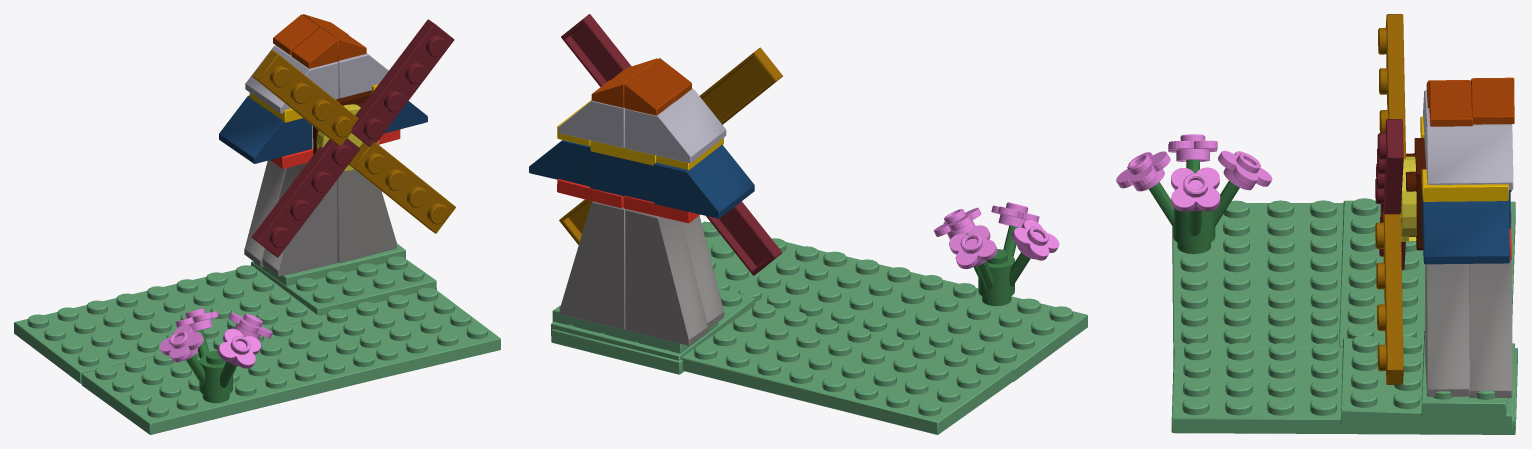
File: Lego Windmill.fbx
3 views of the same model, side by side, from view 1: azimuth 30°, elevation 25°; view 2: azimuth 150°, elevation 25°; view 3: azimuth 270°, elevation 25° (orthographic). The views are drawn at different scales.
Visible parts, largest first — view 1: L4x8F2583, L4x8F2584, L4x8F2586, L4x4F1, L1x4F2, L1x4F4, L1x2Slope10, L1x4F3, L1x4F1, L2x2Slope9, L1x2Slope11, polySurface332 (+13 smaller); view 2: L4x8F2584, L4x8F2583, L1x2Slope13, L1x2Slope12, L4x8F2586, L2x2Slope12, L2x2Slope9, L1x4F3, L1x4F4, L1x4F2, L1x22, polySurface332 (+16 smaller); view 3: L4x8F2583, L4x8F2586, L4x8F2584, L4x4F1, L1x2Slope10, L1x2Slope12, L2x2Slope10, L2x2Slope11, L1x4F1, polySurface332, L1x4F3, L1x4F2 (+10 smaller).
Boxes of the visible parts, <box> form: L4x8F2583: <box>81,315,386,434</box>; L4x8F2584: <box>14,265,318,383</box>; L4x8F2586: <box>250,265,500,377</box>; L4x4F1: <box>251,256,436,315</box>; L1x4F2: <box>351,19,454,146</box>; L1x4F4: <box>251,138,360,257</box>; L1x2Slope10: <box>337,169,396,262</box>; L1x4F3: <box>252,50,358,145</box>; L1x4F1: <box>349,142,455,233</box>; L2x2Slope9: <box>219,95,312,163</box>; L1x2Slope11: <box>262,163,337,276</box>; polySurface332: <box>186,329,243,402</box>; L4x8F2584: <box>681,303,1014,434</box>; L4x8F2583: <box>759,251,1087,381</box>; L1x2Slope13: <box>625,209,708,345</box>; L1x2Slope12: <box>559,201,625,329</box>; L4x8F2586: <box>551,221,827,374</box>; L2x2Slope12: <box>625,88,726,163</box>; L2x2Slope9: <box>654,144,754,218</box>; L1x4F3: <box>699,47,782,124</box>; L1x4F4: <box>706,201,782,275</box>; L1x4F2: <box>561,14,631,86</box>; L1x22: <box>589,149,653,202</box>; polySurface332: <box>966,225,1030,305</box>; L4x8F2583: <box>1172,200,1343,361</box>; L4x8F2586: <box>1171,342,1517,434</box>; L4x8F2584: <box>1339,198,1515,347</box>; L4x4F1: <box>1340,335,1515,430</box>; L1x2Slope10: <box>1425,264,1469,396</box>; L1x2Slope12: <box>1469,224,1512,398</box>; L2x2Slope10: <box>1422,189,1509,264</box>; L2x2Slope11: <box>1425,109,1513,189</box>; L1x4F1: <box>1375,213,1403,384</box>; polySurface332: <box>1148,159,1239,253</box>; L1x4F3: <box>1378,14,1405,158</box>; L1x4F2: <box>1375,119,1403,214</box>.
Bounding box in the file's own units: 490 × 318 × 345.
